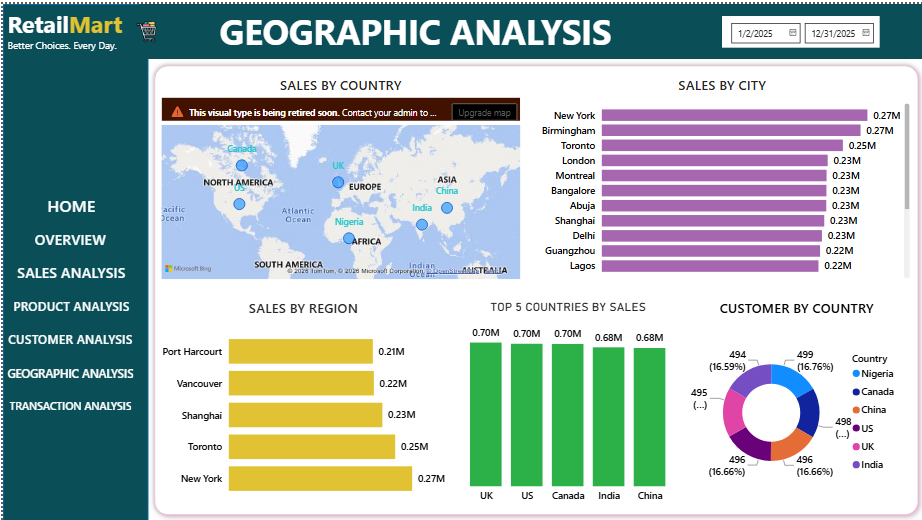

The dashboard page shown, as its layout file describes it:
{"tool":"powerbi","page":{"name":"GEOGRAPHIC","canvas":[1280,720],"ordinal":6},"visuals":[{"type":"shape","box":[0,0,201.9,721.2],"z":0},{"type":"shape","box":[201.9,76.9,1078.8,642.3],"z":1000},{"type":"shape","box":[188.9,0,1091.4,76.5],"z":2000},{"type":"map","title":"SALES BY COUNTRY","fields":{"Category":["public Sales Data.Country"],"Size":["public Sales Data.Total Sales"]},"box":[215.4,100,507.7,286.5],"z":3000},{"type":"clusteredColumnChart","title":"TOP 5 COUNTRIES BY SALES","fields":{"Category":["public Sales Data.Country"],"Y":["public Sales Data.Total Sales"]},"box":[620.7,409.3,328.4,291.1],"z":4000},{"type":"clusteredBarChart","title":"SALES BY CITY","fields":{"Category":["public Sales Data.City"],"Y":["public Sales Data.Total Sales"]},"box":[732.7,99.5,531.2,286.1],"z":5000},{"type":"textbox","box":[1.2,0,265.4,76.5],"z":6000,"group":"g1"},{"type":"clusteredBarChart","title":"SALES BY REGION","fields":{"Category":["public Sales Data.City"],"Y":["public Sales Data.Total Sales"]},"box":[215.4,409.6,403.8,290.4],"z":6000},{"type":"donutChart","title":"CUSTOMER BY COUNTRY","fields":{"Category":["public Sales Data.Country"],"Y":["public Sales Data.Total Customer"]},"box":[949.3,409.1,305,290.8],"z":7000},{"type":"slicer","fields":{"Values":["public Sales Data.Date"]},"box":[998.8,16,218.5,44.4],"z":8000},{"type":"actionButton","box":[1.4,256.3,187.3,46.5],"z":9000},{"type":"actionButton","box":[0,302.8,187.3,46.5],"z":10000},{"type":"actionButton","box":[1.4,349.3,187.3,46.5],"z":11000},{"type":"actionButton","box":[1.4,395.8,187.3,46.5],"z":12000},{"type":"actionButton","box":[0,442.3,187.3,46.5],"z":13000},{"type":"actionButton","box":[0,488.7,187.3,46.5],"z":14000},{"type":"actionButton","box":[0,535.2,187.3,46.5],"z":15000},{"type":"group","id":"g1","title":"Group 1","box":[1.2,0,265.4,76.5],"z":16000},{"type":"textbox","box":[296.3,0,566.7,76.5],"z":17000},{"type":"image","box":[176.3,23.7,45.6,30.2],"z":30001,"group":"g1"}]}

Visuals, with their boxes in screenshot pixels (x1, y1, x2, y2), scaled from the page's 1280x720 canvas onto the 922x520 screenshot:
shape: x1=0 y1=0 x2=145 y2=519
shape: x1=145 y1=56 x2=921 y2=519
shape: x1=136 y1=0 x2=921 y2=55
"SALES BY COUNTRY" map: x1=155 y1=72 x2=521 y2=279
"TOP 5 COUNTRIES BY SALES" clusteredColumnChart: x1=447 y1=296 x2=684 y2=506
"SALES BY CITY" clusteredBarChart: x1=528 y1=72 x2=910 y2=278
textbox: x1=1 y1=0 x2=192 y2=55
"SALES BY REGION" clusteredBarChart: x1=155 y1=296 x2=446 y2=506
"CUSTOMER BY COUNTRY" donutChart: x1=684 y1=295 x2=903 y2=505
slicer - public Sales Data.Date: x1=719 y1=12 x2=877 y2=44
actionButton: x1=1 y1=185 x2=136 y2=219
actionButton: x1=0 y1=219 x2=135 y2=252
actionButton: x1=1 y1=252 x2=136 y2=286
actionButton: x1=1 y1=286 x2=136 y2=319
actionButton: x1=0 y1=319 x2=135 y2=353
actionButton: x1=0 y1=353 x2=135 y2=387
actionButton: x1=0 y1=387 x2=135 y2=420
"Group 1" group: x1=1 y1=0 x2=192 y2=55
textbox: x1=213 y1=0 x2=622 y2=55
image: x1=127 y1=17 x2=160 y2=39
